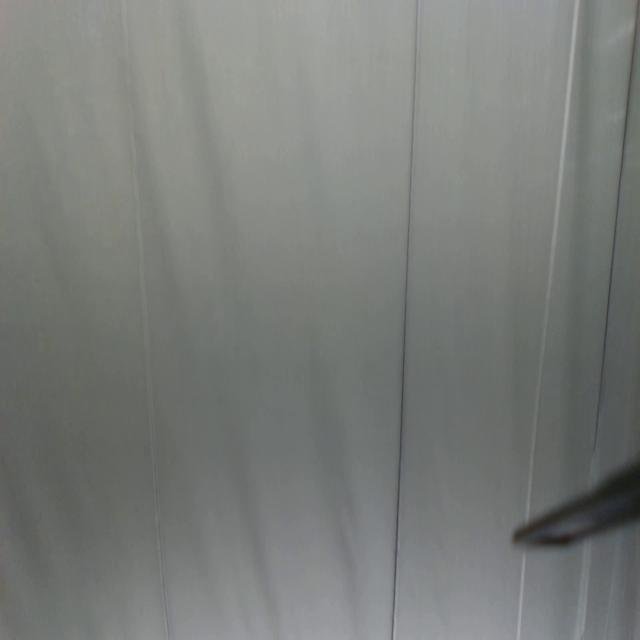crease: (516, 1, 582, 640), (119, 1, 173, 640), (590, 0, 640, 452), (388, 0, 421, 640)
